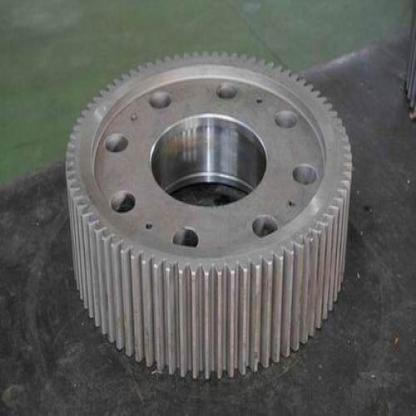FOD: (61, 47, 357, 385)
